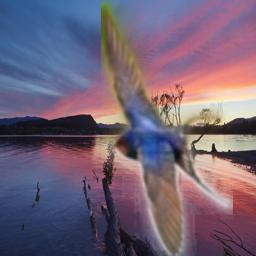Swallow: (101, 1, 233, 256)
